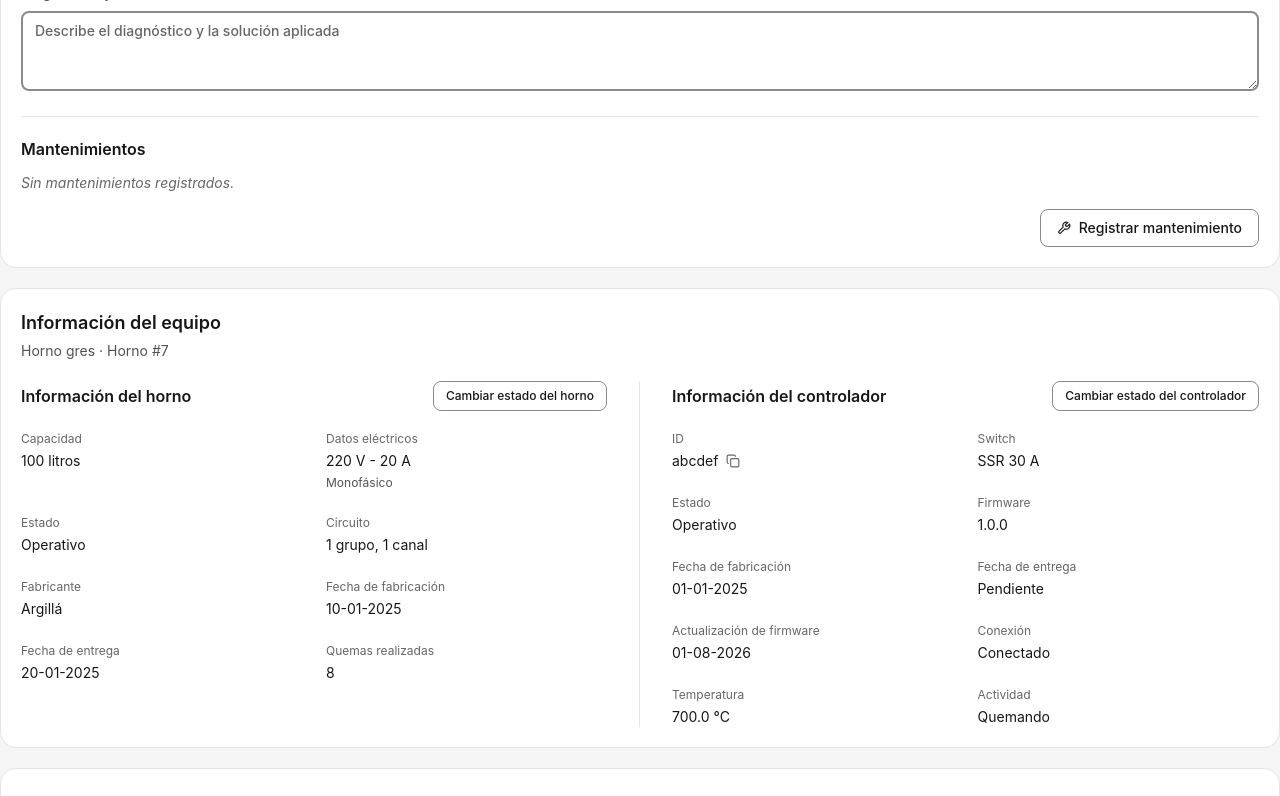
Scenario: SupportTicketDetails › keeps the status dialog open when an active firing rejects the change
(page scrolled)
Step 1. Click the button "Cambiar estado del controlador" → {"x": 1156, "y": 396}, box top-left (1052, 381), bottom-right (1259, 411)
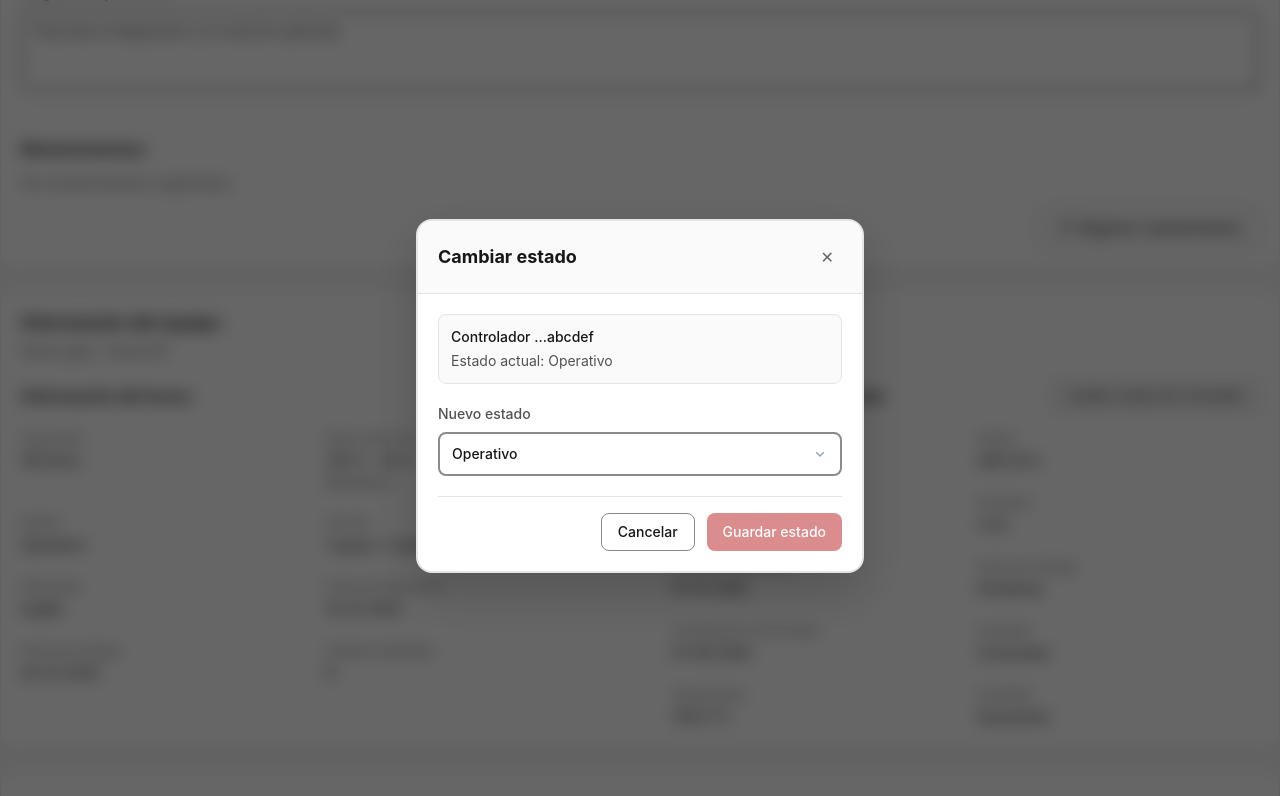
Step 2. Select "En mantención" in the dropdown labelled "Nuevo estado" → {"x": 640, "y": 454}, box top-left (438, 432), bottom-right (842, 476)
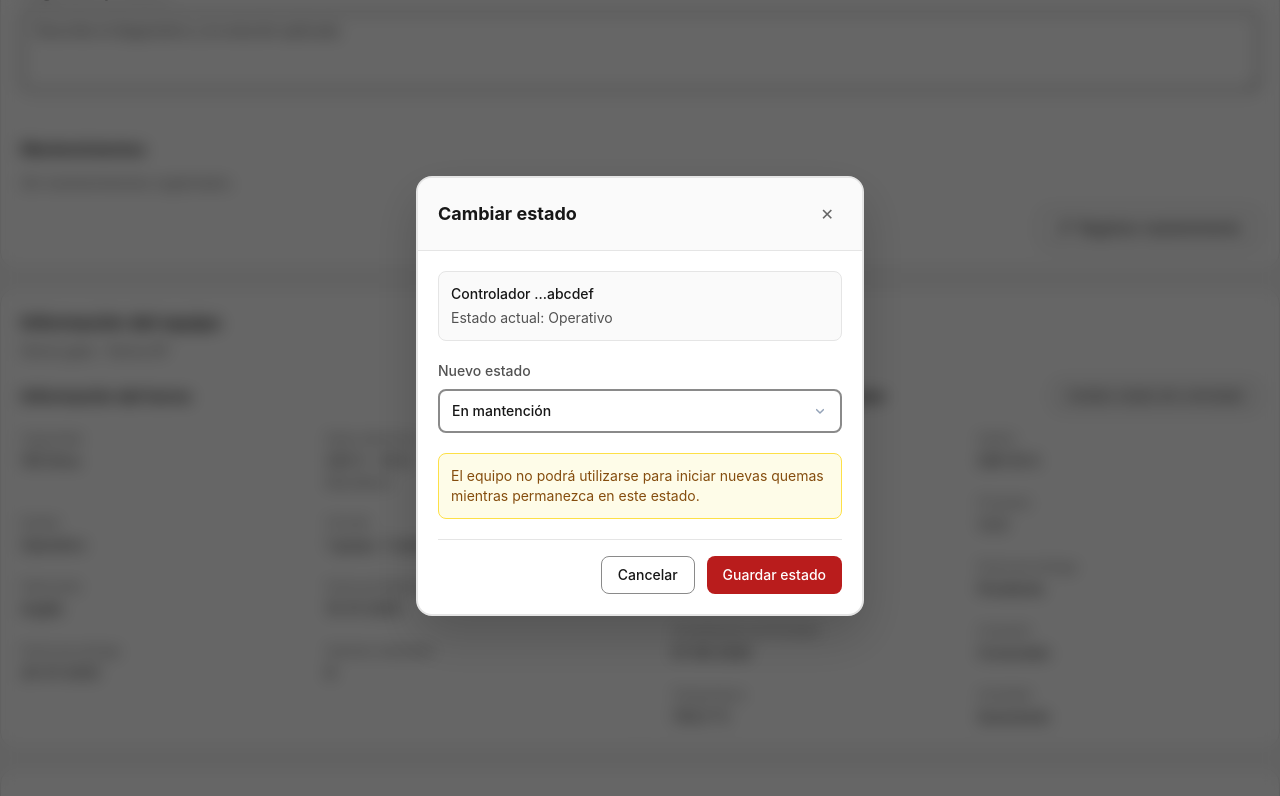
Step 3. Click the button "Guardar estado" → {"x": 774, "y": 575}, box top-left (707, 556), bottom-right (842, 594)
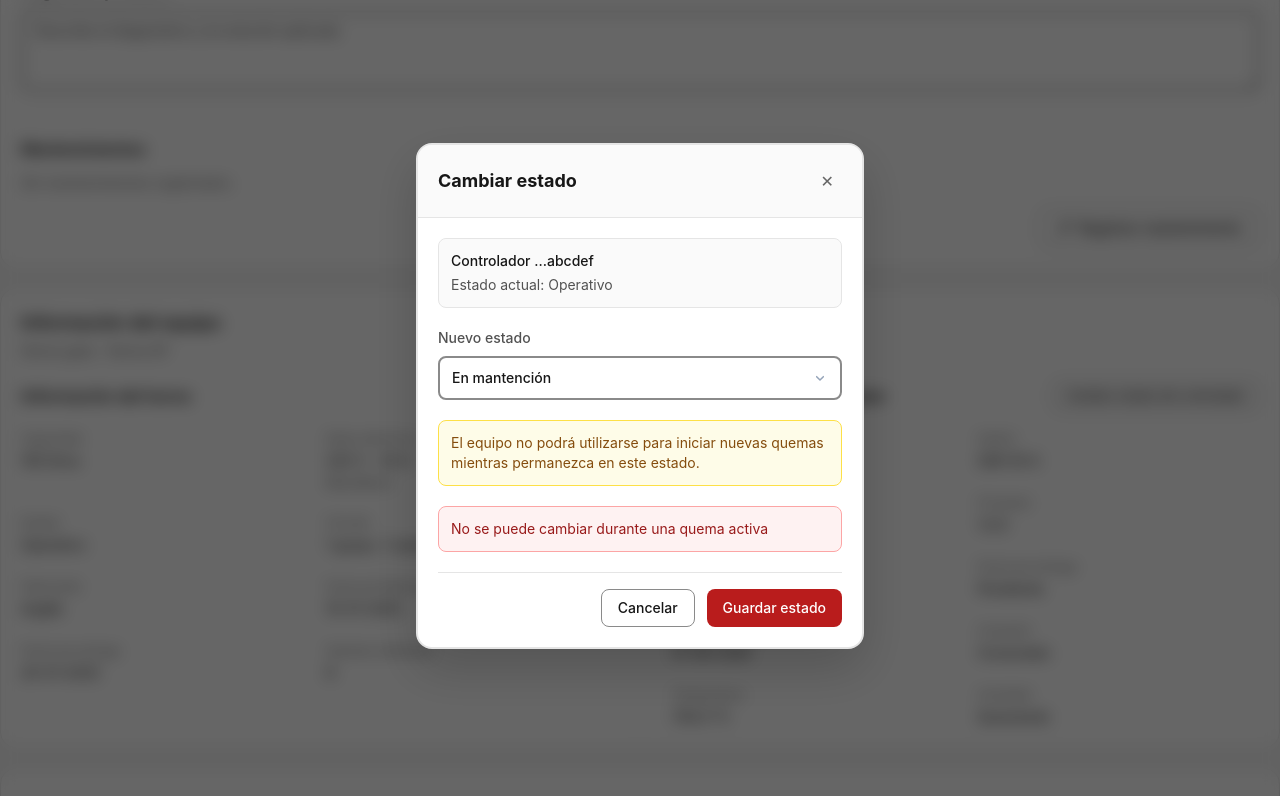
Result: the heading "Cambiar estado" is shown at top-left (438, 167), bottom-right (577, 195)
Result: the message reads "No se puede cambiar durante una quema activa" at top-left (451, 520), bottom-right (768, 537)
